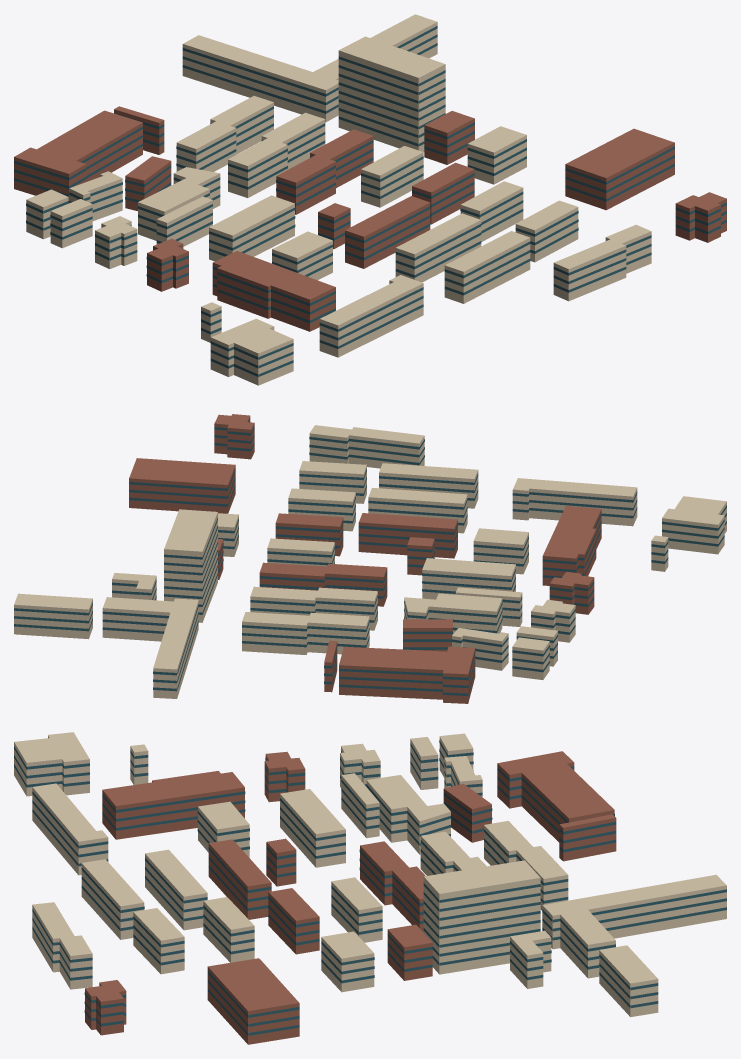
Rendered from city_9_-6.glb.
3 views of the same model, one above another, from view 1: azimuth 30°, elevation 25°; view 2: azimuth 150°, elevation 25°; view 3: azimuth 270°, elevation 25° (orthographic). The views are drawn at different scales.
Visible parts, largest first — view 1: city_9_-6; view 2: city_9_-6; view 3: city_9_-6.
Part boxes in pixels (x1,y1,x2,y2): city_9_-6: (14,14,726,385); city_9_-6: (14,414,726,703); city_9_-6: (14,732,726,1044).
Size of the model in its own units: 267 by 36 by 288.
